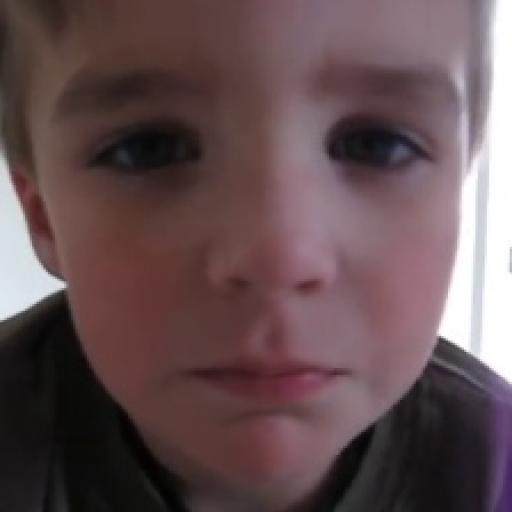Autism: (31, 24, 512, 512)
